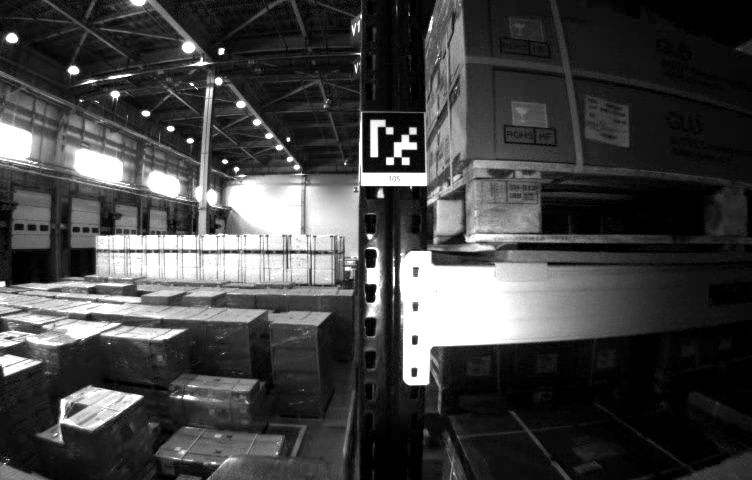True Barcode: (580, 93, 632, 148)
